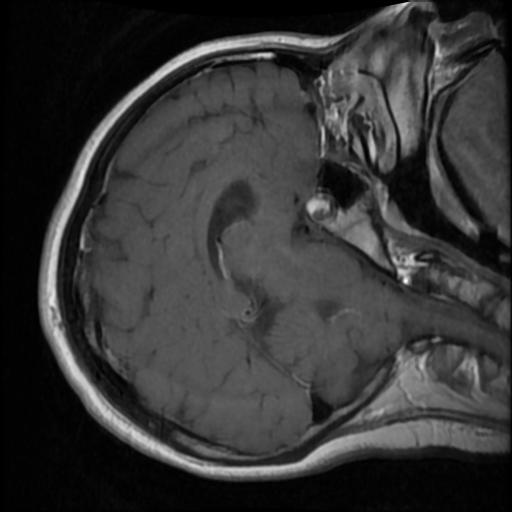pituitary tumour: (306, 191, 336, 222)
